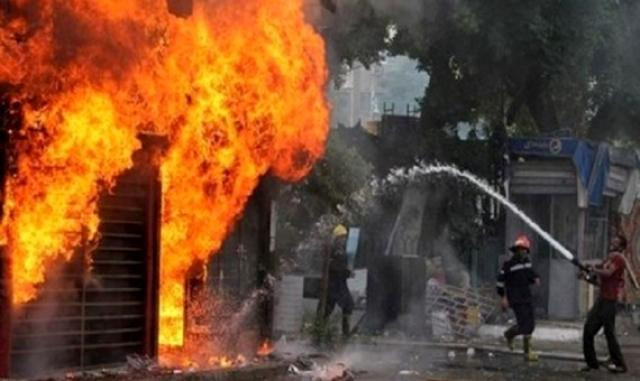fire: (0, 0, 334, 376)
